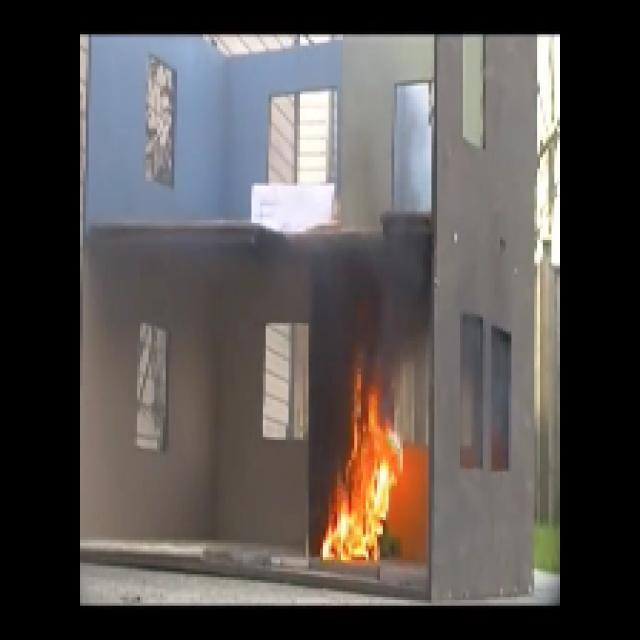Fire: (317, 403, 401, 565)
Smoke: (314, 242, 432, 332)
